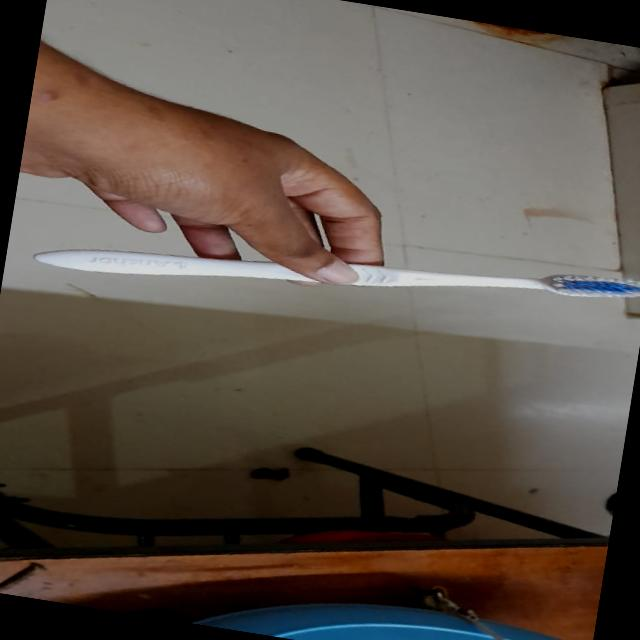Tooth_Brush - Non Recyclable: (15, 176, 640, 379)
